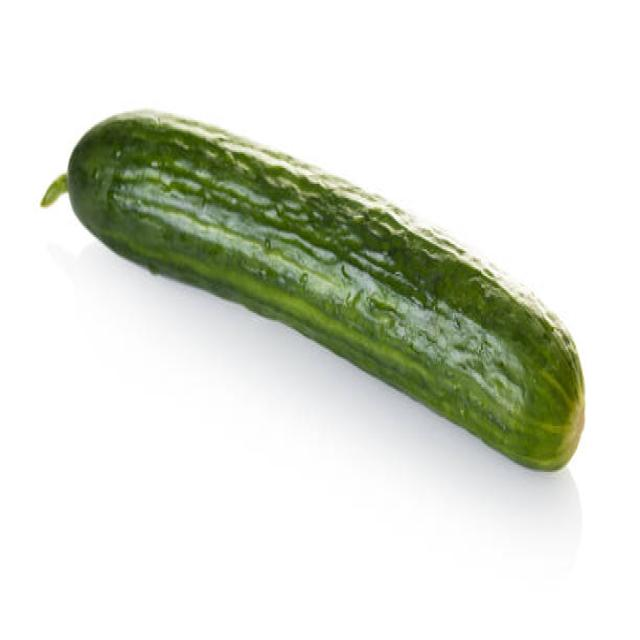cucumber: (68, 108, 587, 474)
